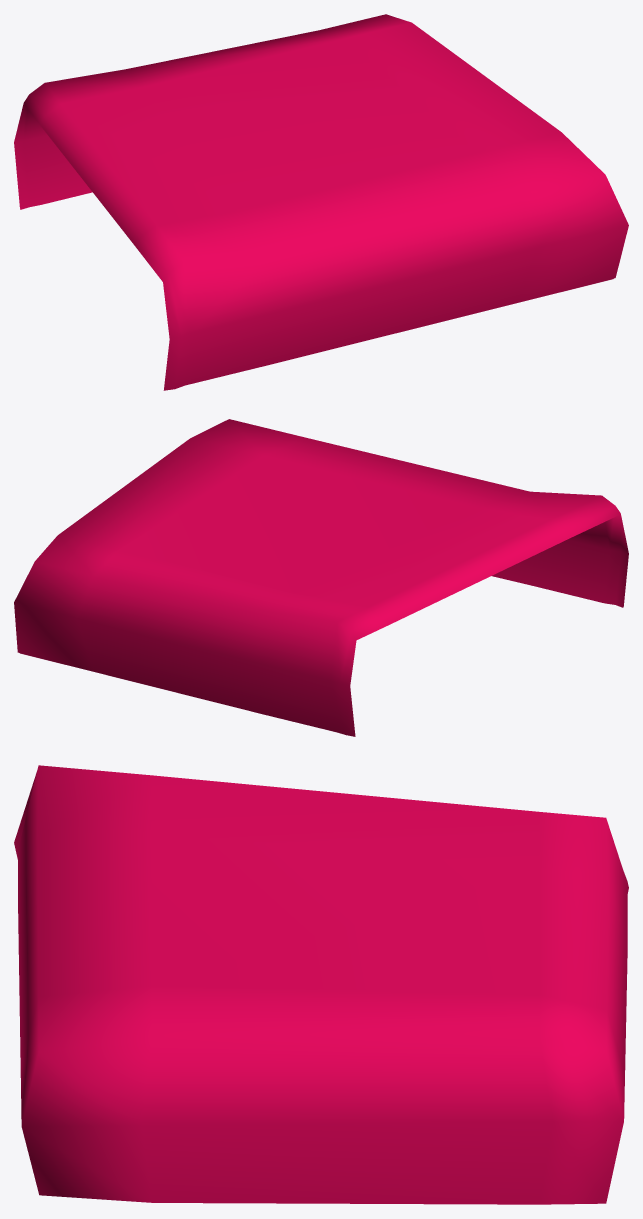
The model's file is BedSheet_Large_01.fbx.
The picture shows the model from 3 angles, top to bottom: view 1: azimuth 30°, elevation 25°; view 2: azimuth 150°, elevation 25°; view 3: azimuth 270°, elevation 25°; orthographic projection. The views are drawn at different scales.
Visible parts, largest first — view 1: BedSheet_Large_01; view 2: BedSheet_Large_01; view 3: BedSheet_Large_01.
Part boxes in pixels (x1,y1,x2,y2): BedSheet_Large_01: (14, 14, 628, 390); BedSheet_Large_01: (14, 419, 628, 736); BedSheet_Large_01: (14, 765, 628, 1204).
Bounding box in the file's own units: 192 × 49.38 × 170.
